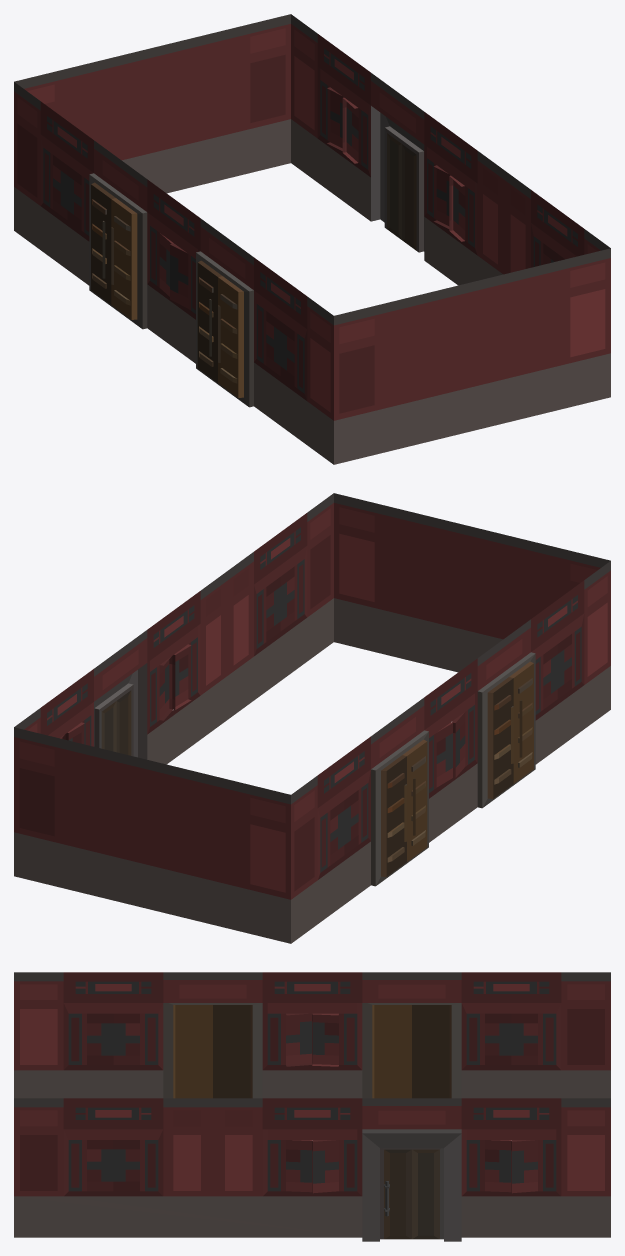
File: BuildingA-Ext_ALOD1.fbx
3 views of the same model, one above another, from view 1: azimuth 30°, elevation 25°; view 2: azimuth 150°, elevation 25°; view 3: azimuth 270°, elevation 25° (orthographic). The views are drawn at different scales.
Parts seen in each view (by area): view 1: BuildingA-Ext_ALOD1; view 2: BuildingA-Ext_ALOD1; view 3: BuildingA-Ext_ALOD1.
Boxes of the visible parts, x1,y1,x2,y2 form: BuildingA-Ext_ALOD1: [14, 14, 610, 464]; BuildingA-Ext_ALOD1: [14, 493, 610, 943]; BuildingA-Ext_ALOD1: [14, 972, 610, 1241].
Bounding box in the file's own units: 812 × 386 × 1500.
